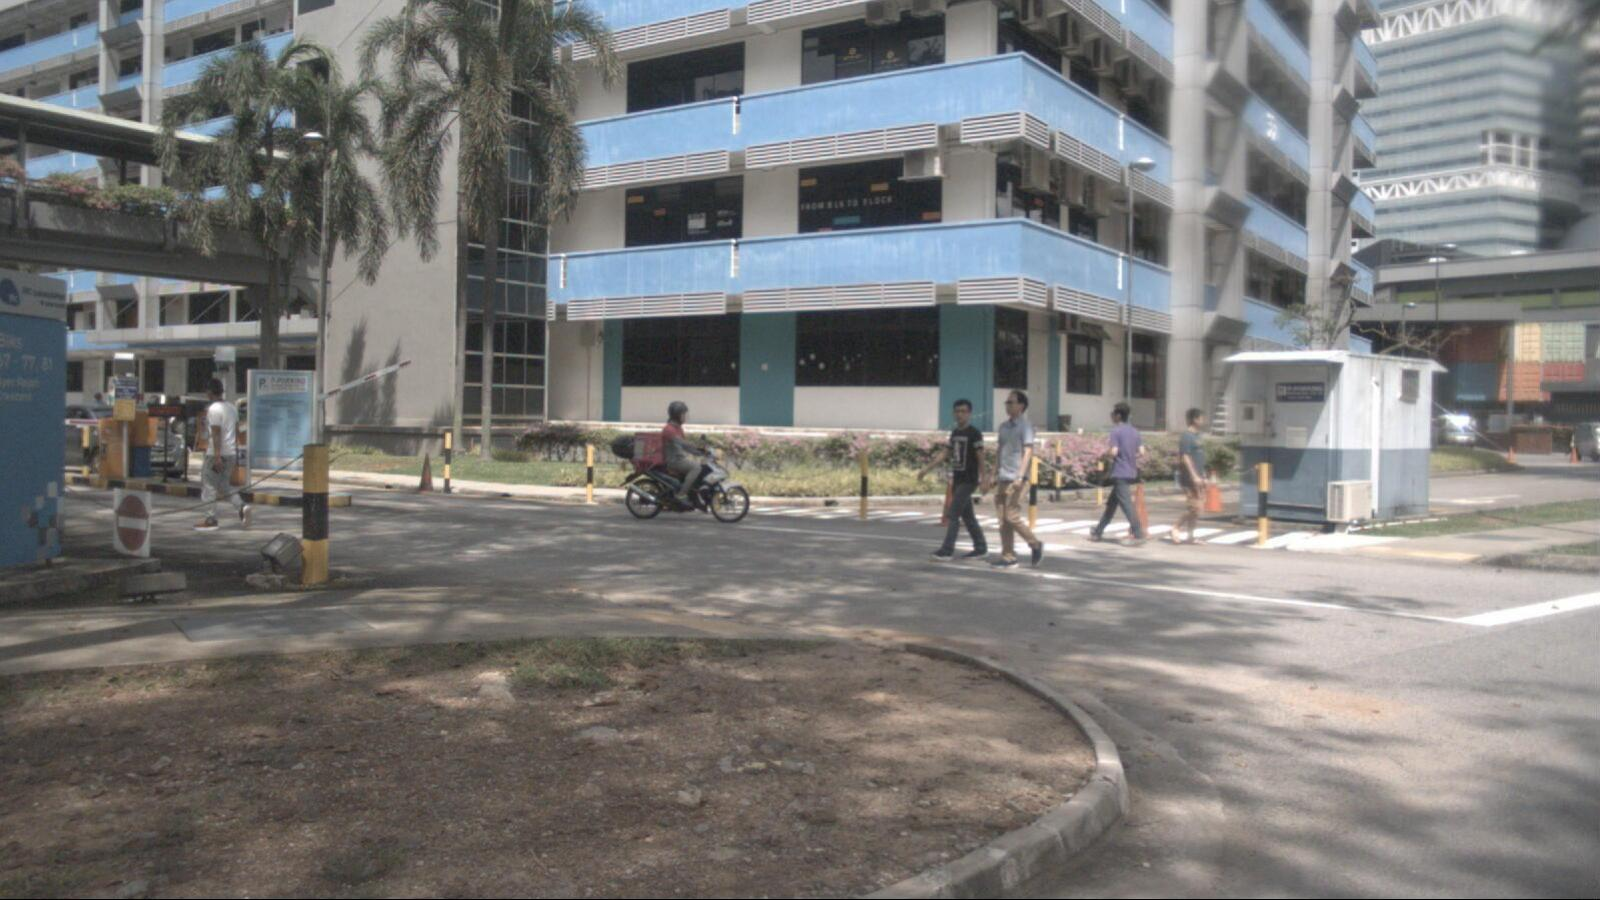human.pedestrian.adult-pedestrian.moving: (916, 399, 991, 562), (987, 389, 1044, 570), (193, 380, 253, 533), (1086, 402, 1147, 548), (1168, 407, 1208, 548)
vehicle.motorcycle-cycle.with_rider: (611, 401, 751, 524)
